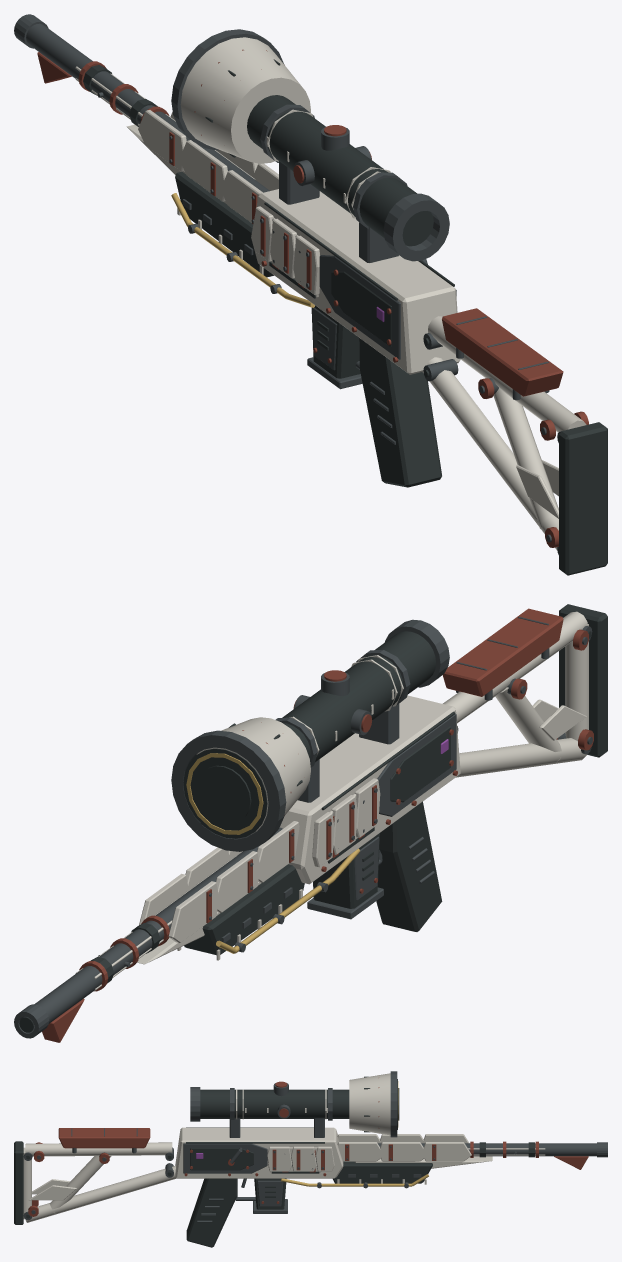
The model's file is sniper_3.glb.
3 renders of one model, top to bottom at view 1: azimuth 30°, elevation 25°; view 2: azimuth 150°, elevation 25°; view 3: azimuth 270°, elevation 25°, orthographic. The views are drawn at different scales.
Parts seen in each view (by area): view 1: Weapon_sniper_v1; view 2: Weapon_sniper_v1; view 3: Weapon_sniper_v1.
Boxes of the visible parts, x1,y1,x2,y2 form: Weapon_sniper_v1: [14, 14, 607, 575]; Weapon_sniper_v1: [14, 604, 607, 1042]; Weapon_sniper_v1: [14, 1071, 607, 1247].
Size of the model in its own units: 0.122 by 0.3431 by 1.09.
